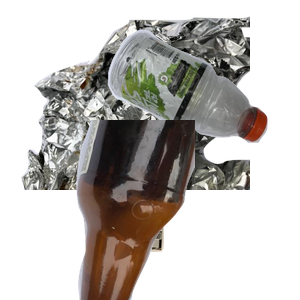glass: (60, 120, 300, 300)
metal: (19, 14, 259, 194)
plastic: (105, 27, 300, 162)
trash: (86, 158, 242, 300)
